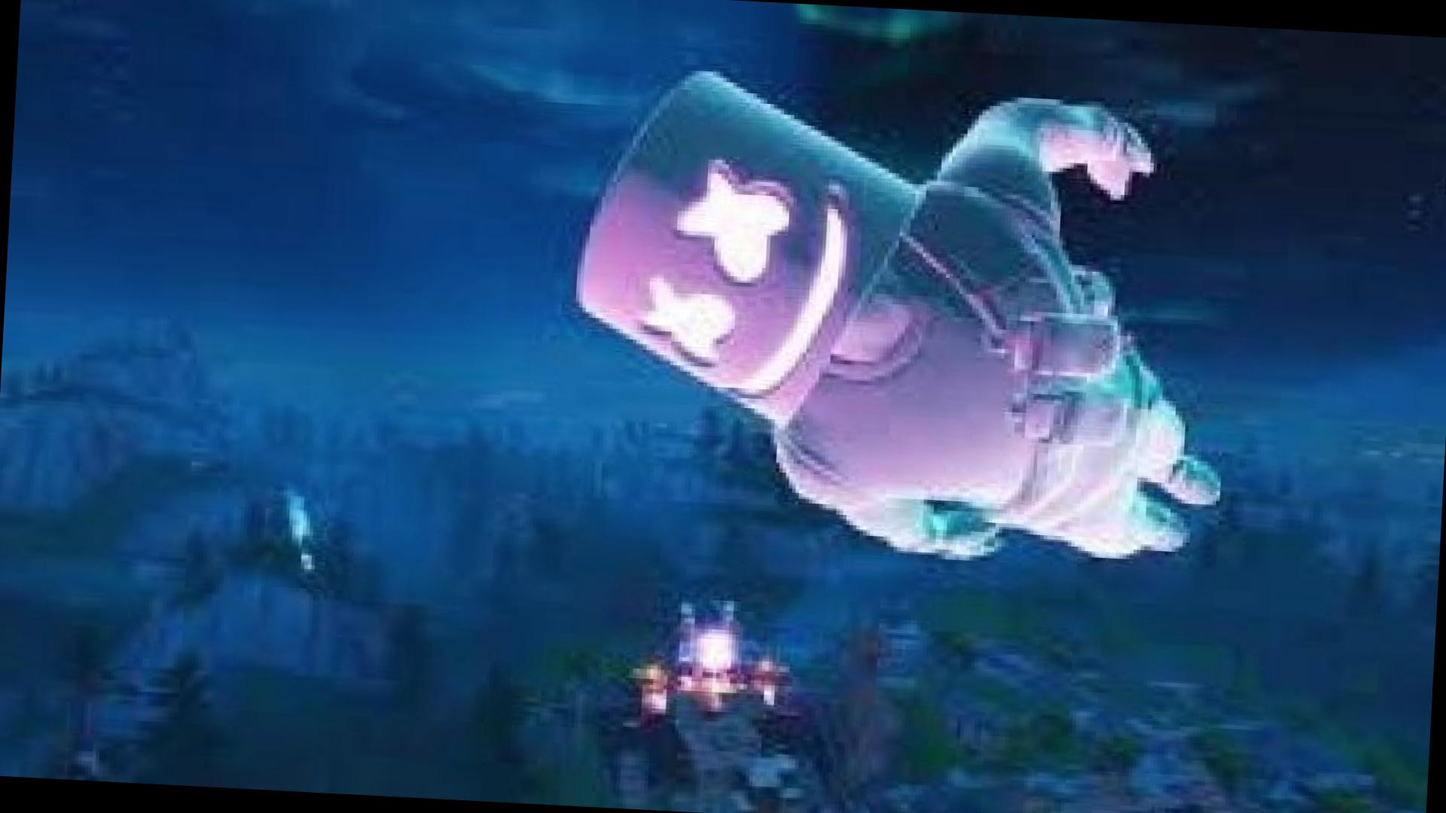player: (522, 97, 1095, 446)
